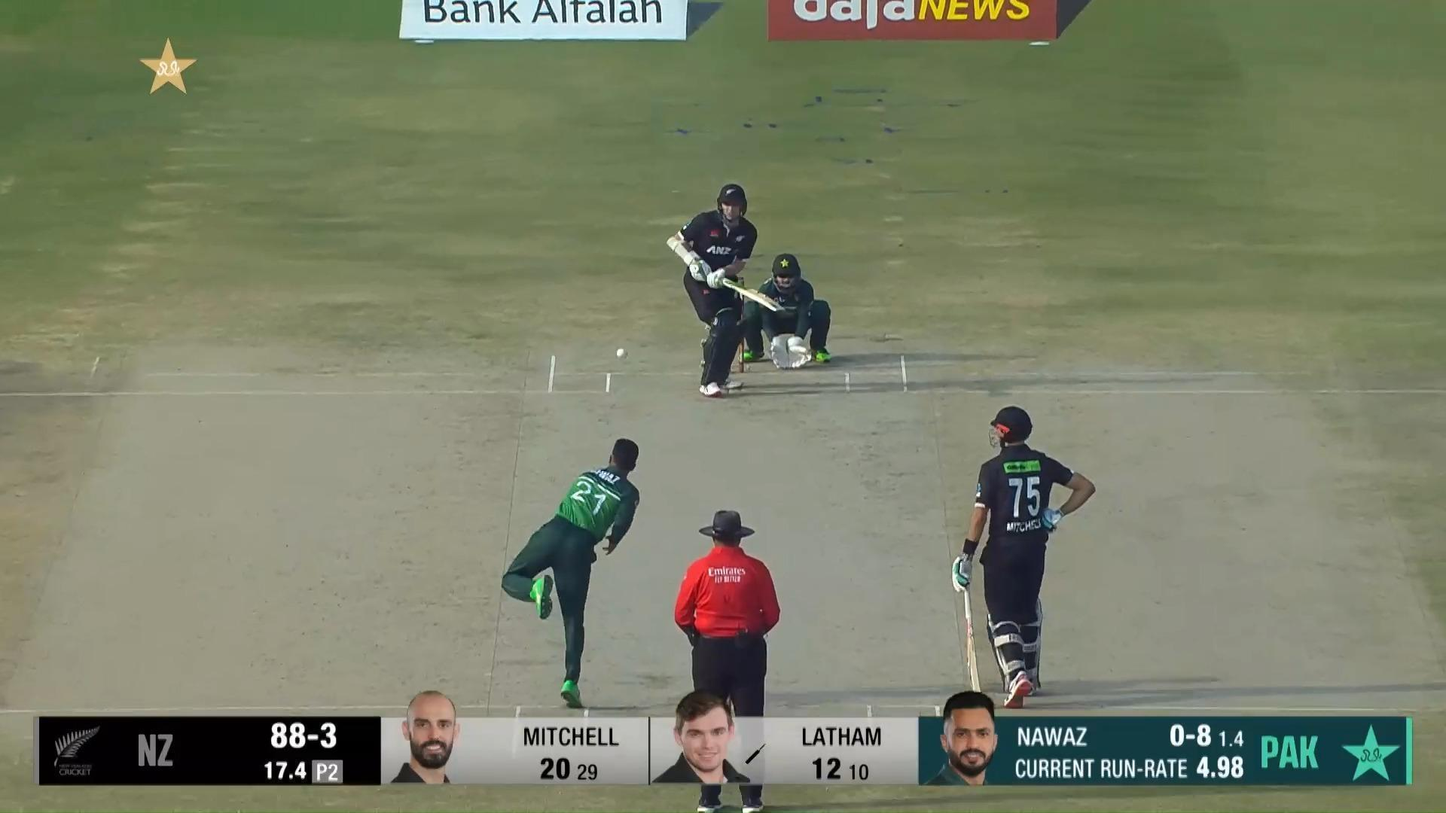BM 1: (666, 183, 785, 399)
BO: (500, 436, 644, 711)
